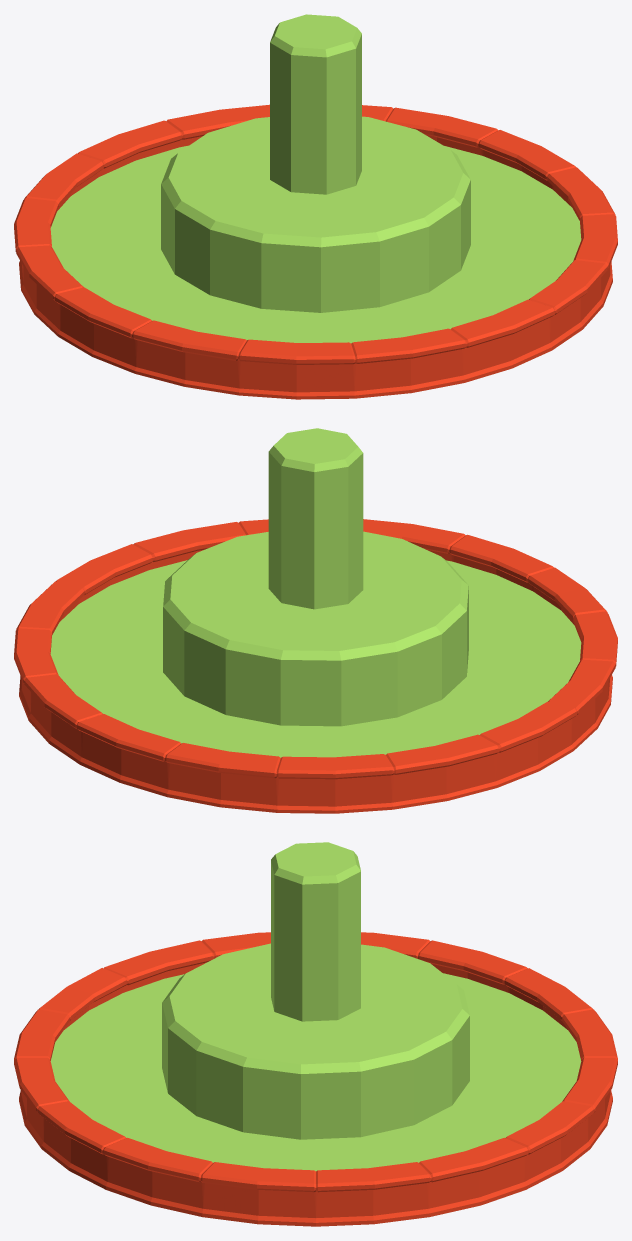
The model's file is SM_Fontaine_Water_City.fbx.
3 renders of one model, top to bottom at view 1: azimuth 30°, elevation 25°; view 2: azimuth 150°, elevation 25°; view 3: azimuth 270°, elevation 25°, orthographic.
Parts seen in each view (by area): view 1: SM_Fontaine_Water_City; view 2: SM_Fontaine_Water_City; view 3: SM_Fontaine_Water_City.
Part boxes in pixels (x1=…): SM_Fontaine_Water_City: x1=14, y1=14, x2=617, y2=399; SM_Fontaine_Water_City: x1=14, y1=428, x2=617, y2=813; SM_Fontaine_Water_City: x1=14, y1=842, x2=617, y2=1226.
Bounding box in the file's own units: 5.63 × 2.49 × 5.63.
